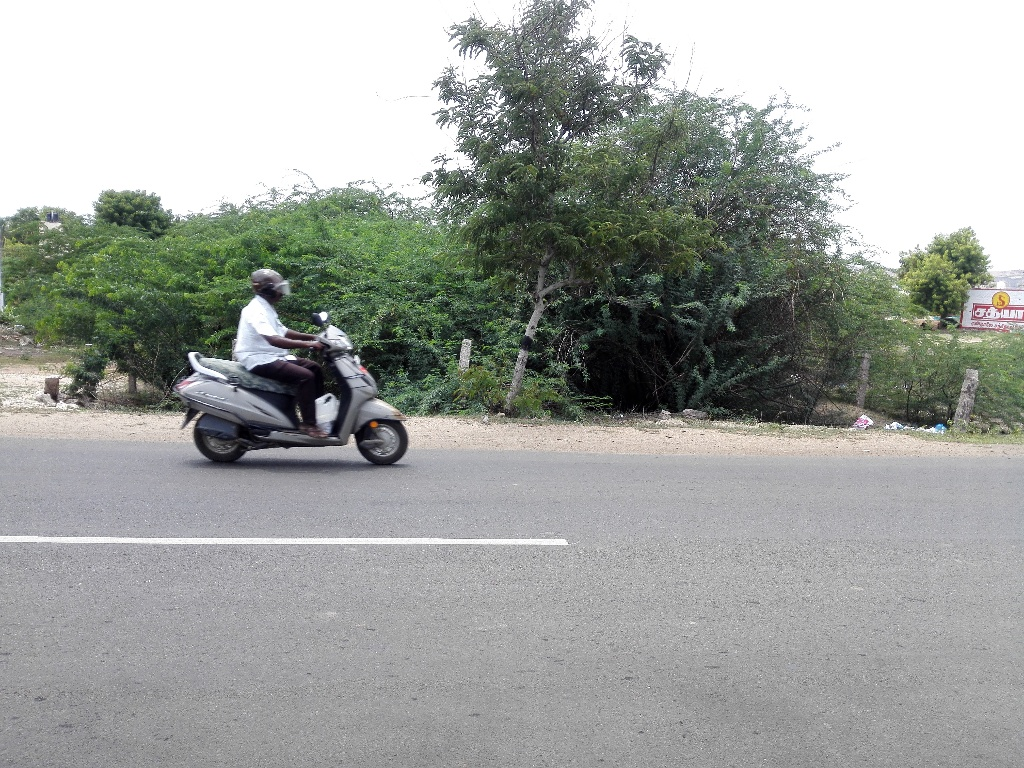biker: (164, 235, 423, 482)
helmet: (243, 258, 303, 317)
